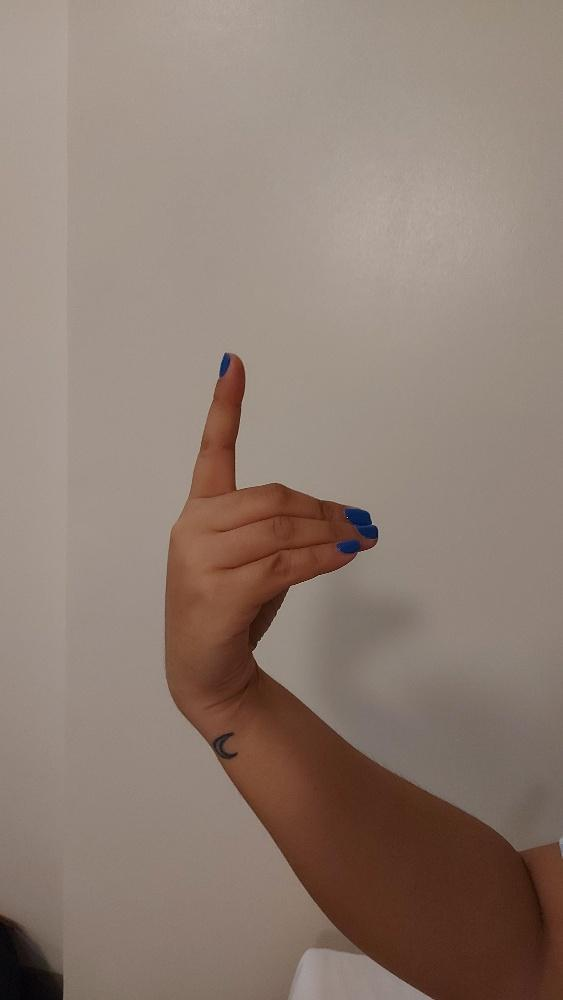d: (162, 349, 378, 707)
